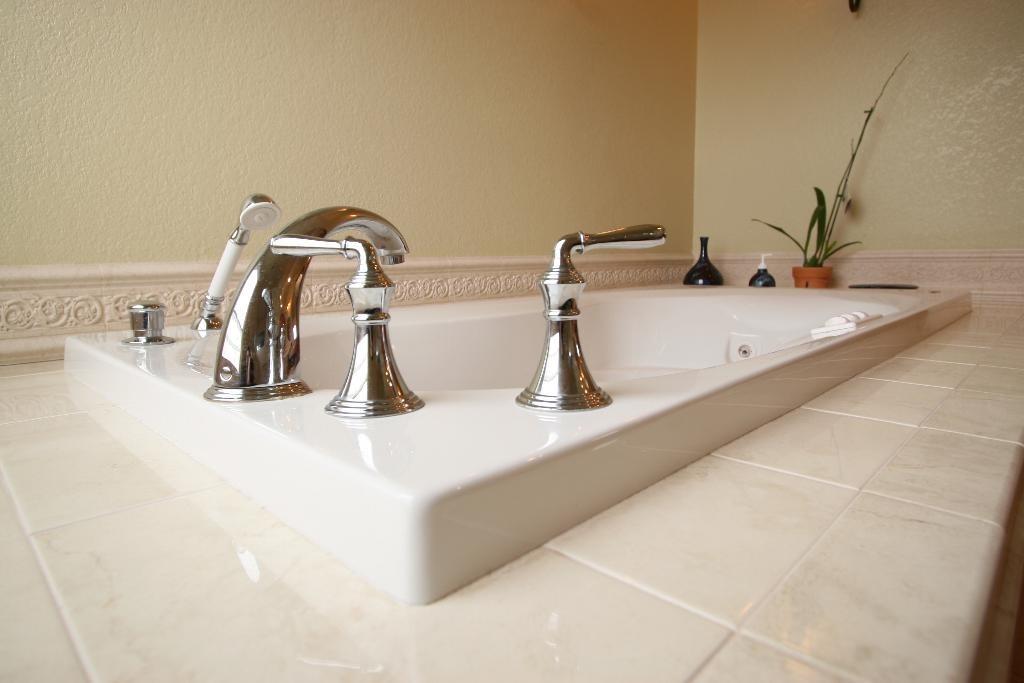tap: (199, 199, 407, 401)
